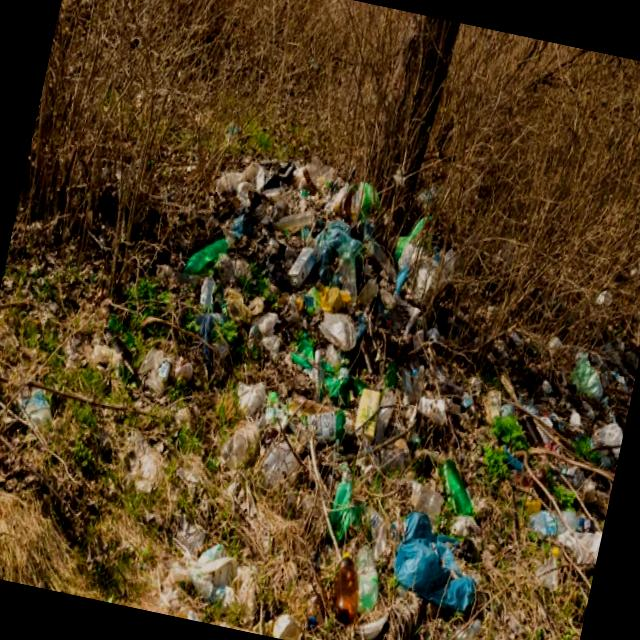garbage: (36, 108, 548, 632)
